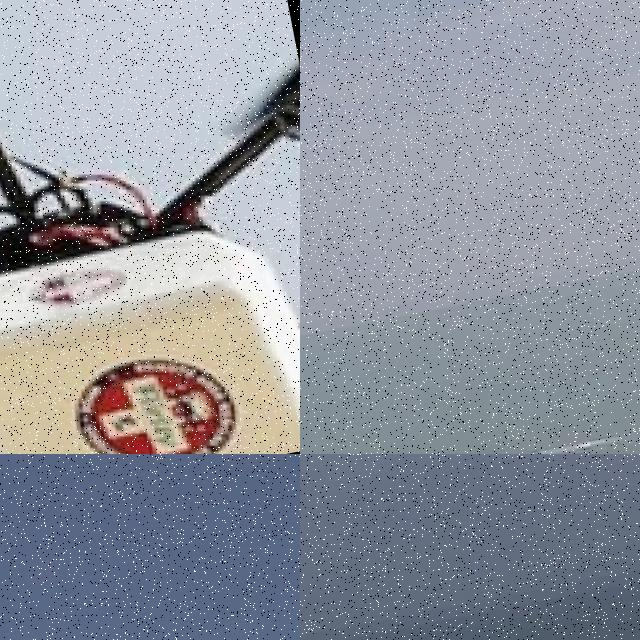drone: (0, 0, 300, 454)
